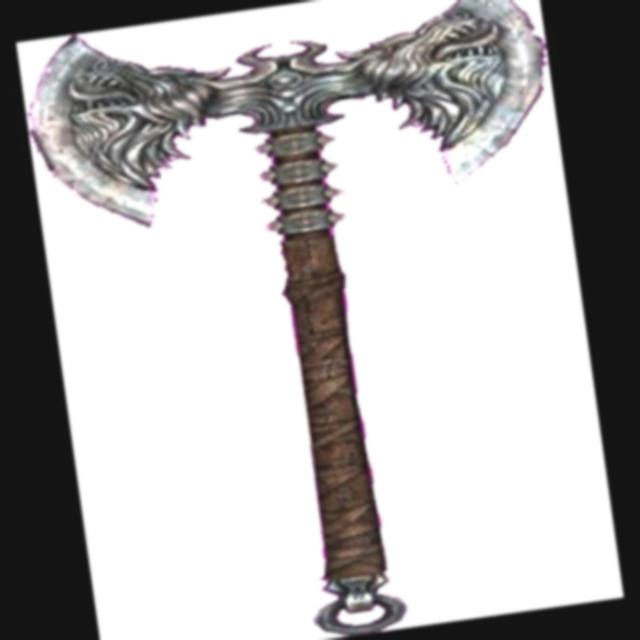ax: (13, 0, 621, 640)
